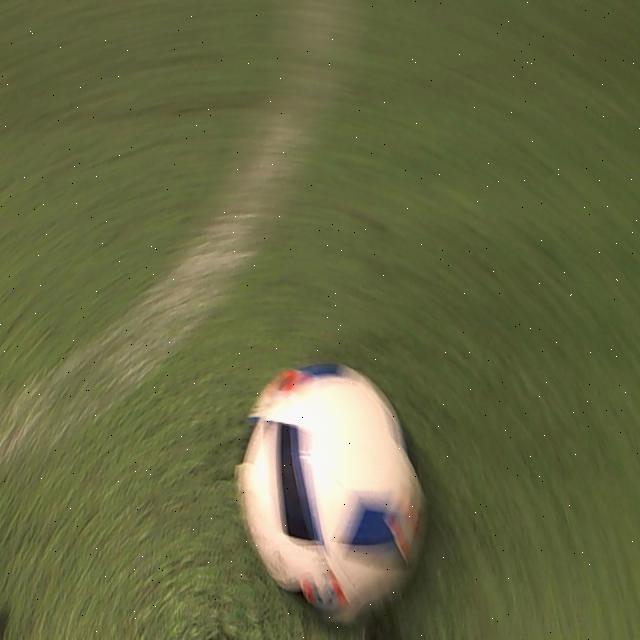ball: (237, 364, 424, 620)
